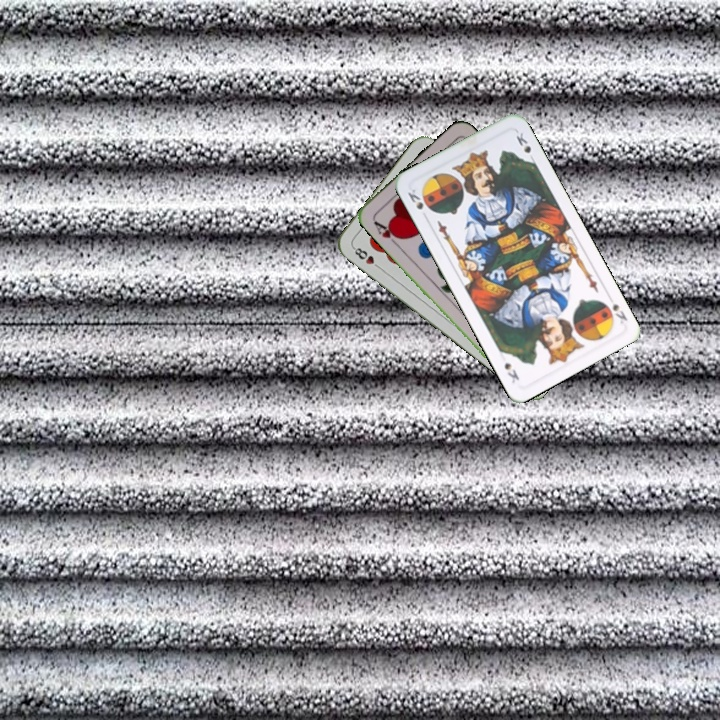H8: (349, 243, 384, 272)
HA: (369, 215, 404, 248)
SK: (403, 185, 430, 222), (608, 299, 630, 328)
